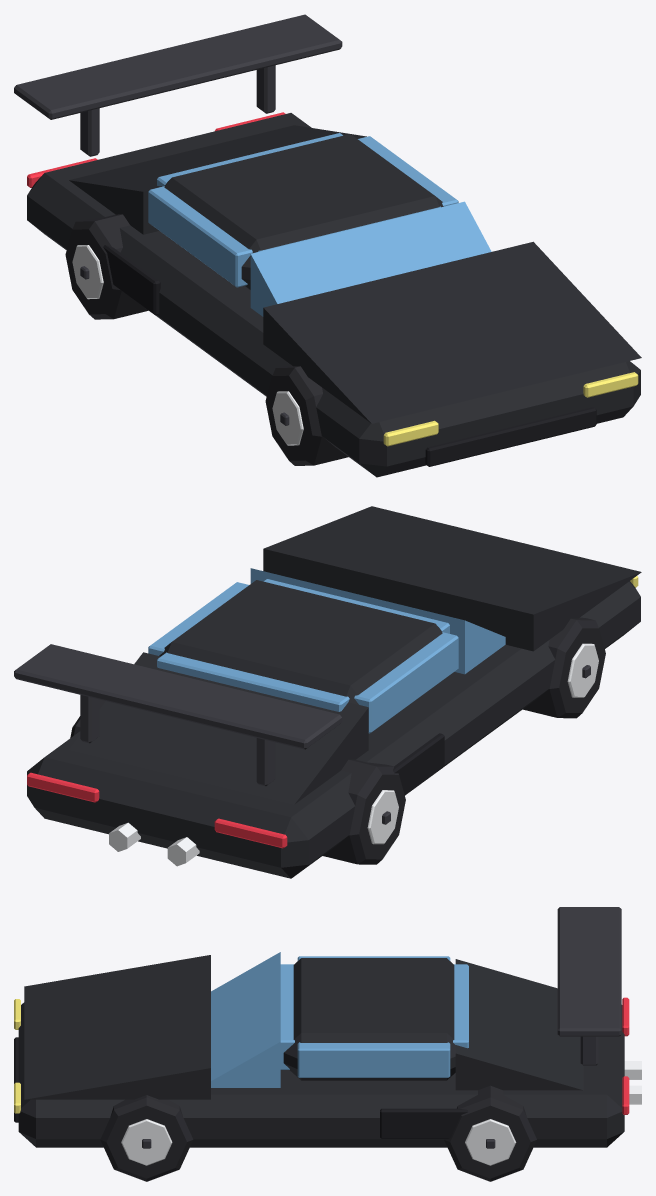
Rendered from BlackSupercar.fbx.
3 renders of one model, top to bottom at view 1: azimuth 30°, elevation 25°; view 2: azimuth 150°, elevation 25°; view 3: azimuth 270°, elevation 25°, orthographic. The views are drawn at different scales.
Visible parts, largest first — view 1: BlackSupercar, BlackSupercar_WheelBR, BlackSupercar_WheelFR; view 2: BlackSupercar, BlackSupercar_WheelBR, BlackSupercar_WheelFR; view 3: BlackSupercar, BlackSupercar_WheelBL, BlackSupercar_WheelFL.
Boxes of the visible parts, x1,y1,x2,y2 form: BlackSupercar: [14, 14, 641, 477]; BlackSupercar_WheelBR: [65, 214, 148, 319]; BlackSupercar_WheelFR: [265, 365, 348, 465]; BlackSupercar: [14, 506, 641, 878]; BlackSupercar_WheelBR: [323, 759, 405, 864]; BlackSupercar_WheelFR: [523, 617, 605, 718]; BlackSupercar: [14, 907, 641, 1147]; BlackSupercar_WheelBL: [444, 1085, 536, 1181]; BlackSupercar_WheelFL: [100, 1095, 193, 1181].
Size of the model in its own units: 5.22 by 2.94 by 10.78.
Materials: 1 (1 with a texture image).
